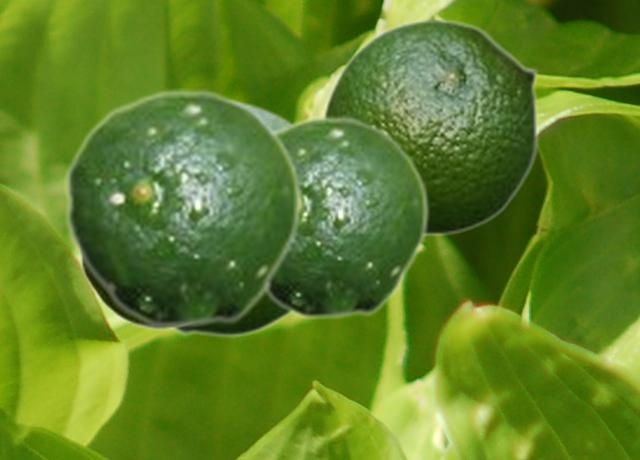calamansi: (64, 88, 302, 329), (321, 18, 539, 236), (266, 115, 429, 320), (167, 96, 294, 337), (77, 256, 189, 329)
